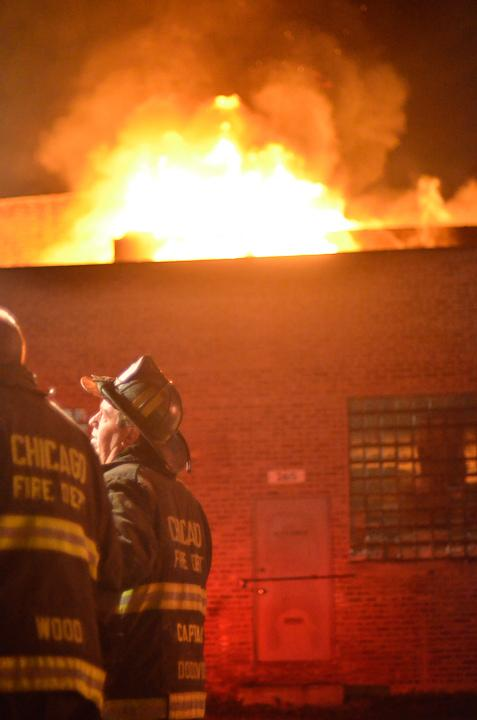fire: (80, 132, 330, 258)
